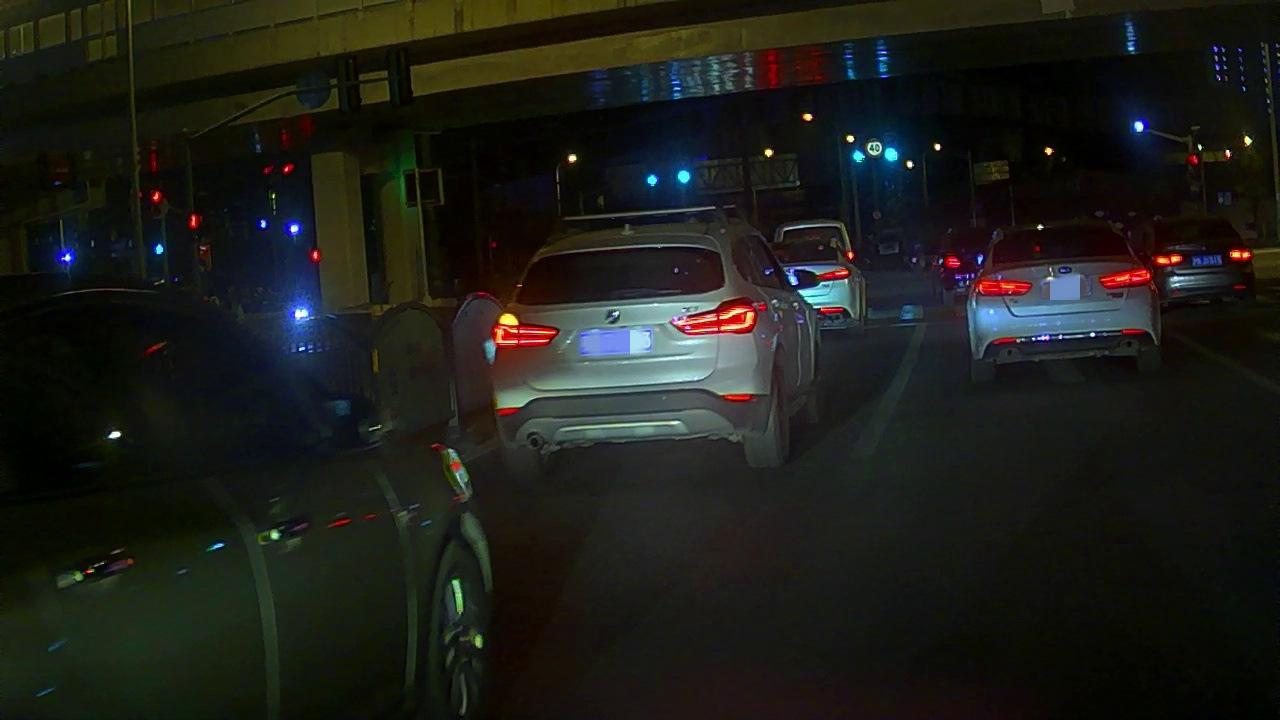traffic_light: (877, 138, 904, 168), (674, 160, 696, 189), (845, 146, 869, 169), (642, 172, 660, 193)
